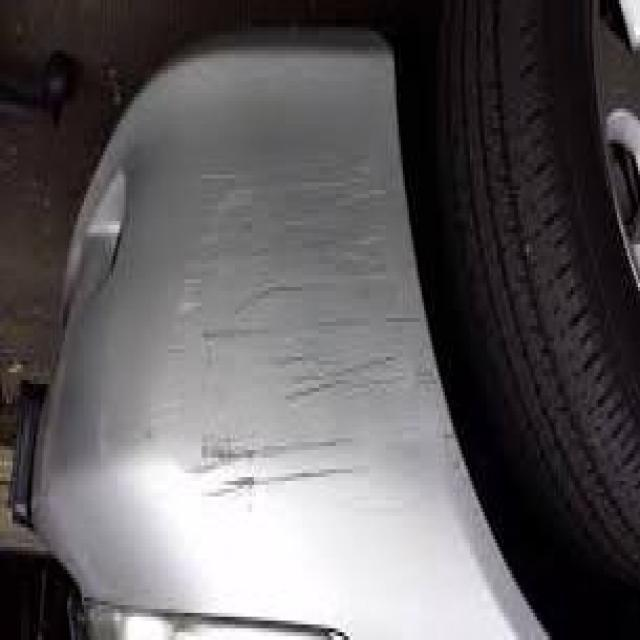scratch: (168, 118, 420, 514)
